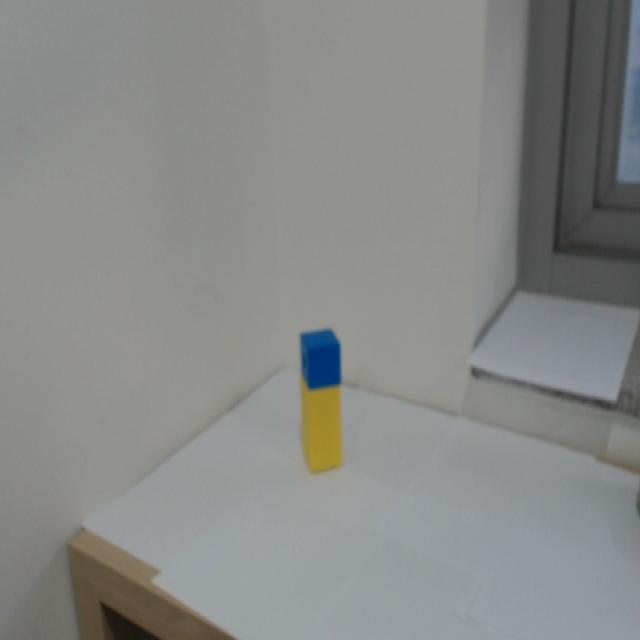cube: (298, 331, 343, 392)
